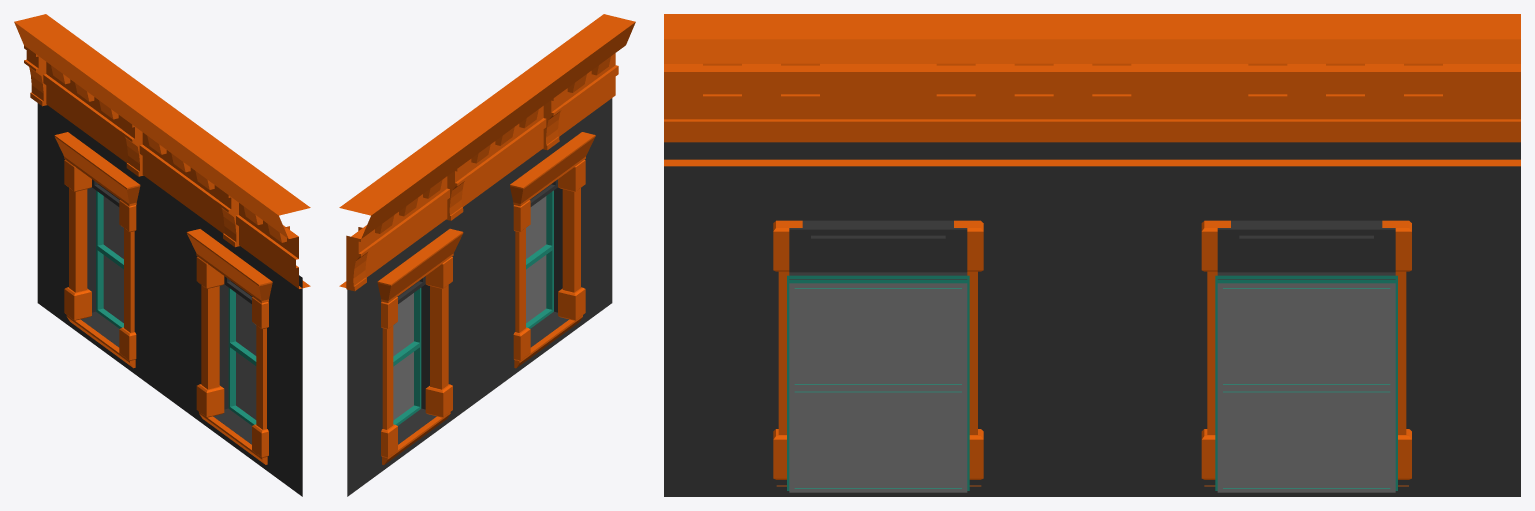
The model's file is SM_T_Build_03.fbx.
3 views of the same model, side by side, from view 1: azimuth 30°, elevation 25°; view 2: azimuth 150°, elevation 25°; view 3: azimuth 270°, elevation 25° (orthographic). The views are drawn at different scales.
Parts seen in each view (by area): view 1: SM_T_Build_03, Box160, Box154, Box152, Box157, Box156, Box153, Box155, Box158, Box159; view 2: SM_T_Build_03, Box160, Box155, Box153, Box156, Box157, Box152, Box154, Box159, Box158; view 3: SM_T_Build_03, Box160, Box154, Box153, Box152, Box155.
Boxes of the visible parts, <box> form: SM_T_Build_03: <box>24,45,302,496</box>; Box160: <box>14,14,310,288</box>; Box154: <box>196,256,224,417</box>; Box152: <box>64,159,91,320</box>; Box157: <box>186,229,272,303</box>; Box156: <box>54,132,140,206</box>; Box153: <box>119,200,136,360</box>; Box155: <box>252,297,268,457</box>; Box158: <box>66,315,135,368</box>; Box159: <box>199,412,267,464</box>; SM_T_Build_03: <box>346,56,612,496</box>; Box160: <box>339,14,635,287</box>; Box155: <box>558,160,585,320</box>; Box153: <box>425,257,452,417</box>; Box156: <box>377,228,463,303</box>; Box157: <box>510,132,595,206</box>; Box152: <box>381,297,397,457</box>; Box154: <box>513,200,530,360</box>; Box159: <box>514,315,582,368</box>; Box158: <box>382,412,450,464</box>; SM_T_Build_03: <box>664,63,1520,496</box>; Box160: <box>664,14,1520,166</box>; Box154: <box>954,220,983,479</box>; Box153: <box>1201,220,1230,479</box>; Box152: <box>1382,220,1411,479</box>; Box155: <box>773,220,802,479</box>.
Size of the model in its own units: 124 by 682 by 1140.
